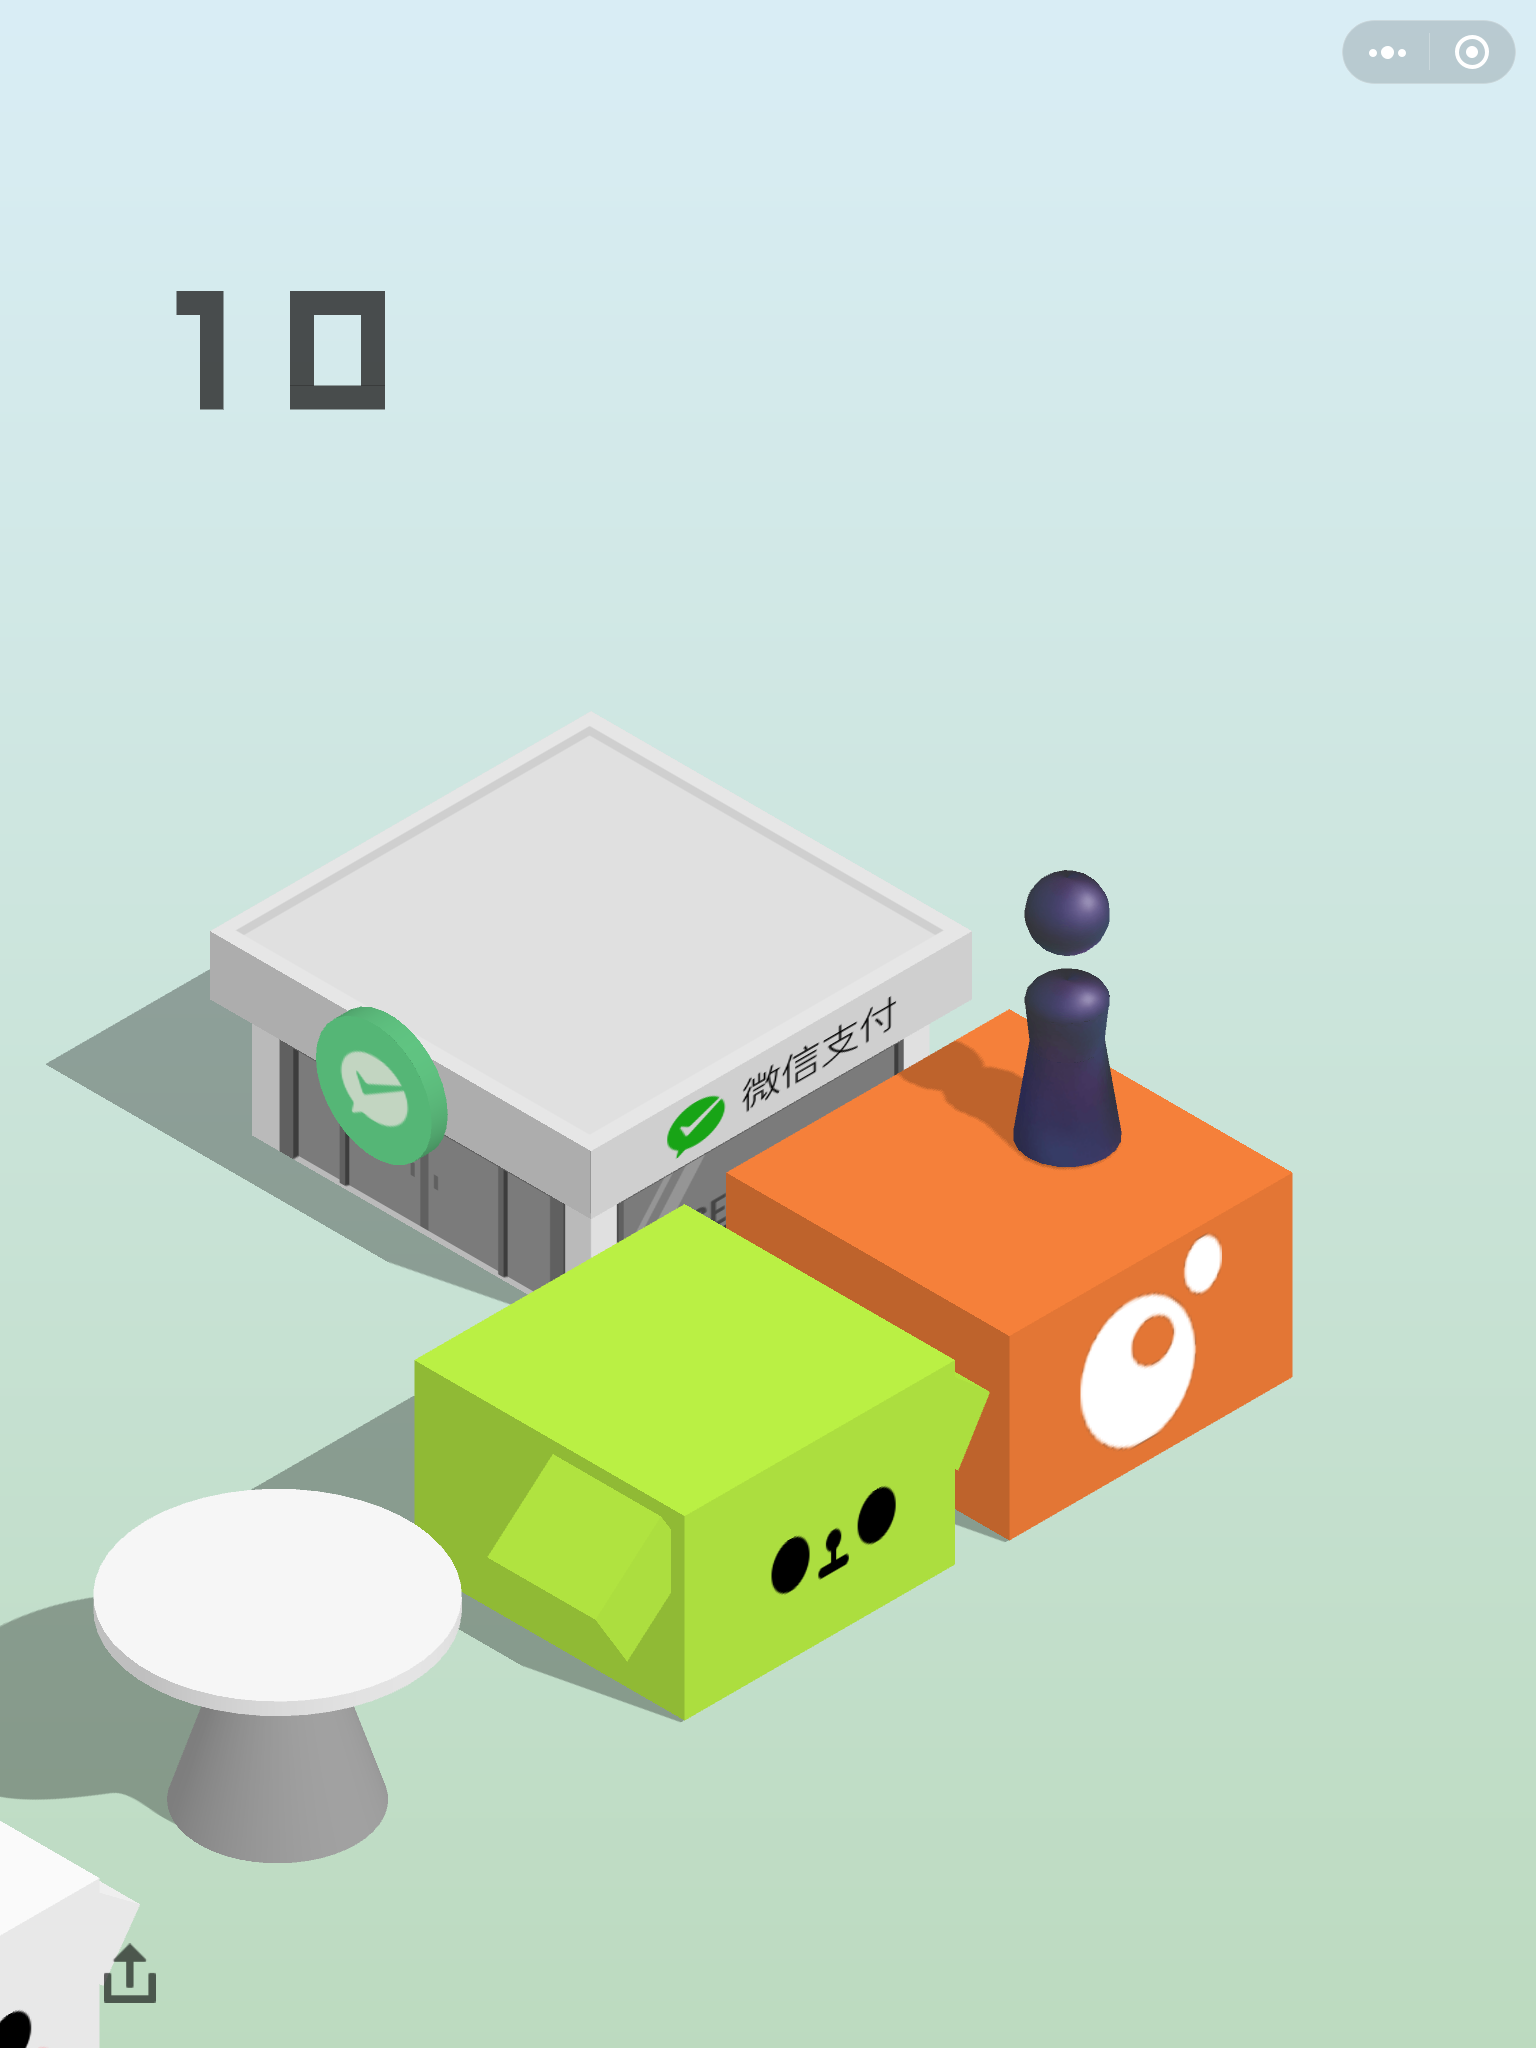c: (87, 1484, 470, 1867)
f: (203, 703, 978, 1306), (720, 1001, 1300, 1548), (403, 1195, 992, 1729)
r: (1007, 863, 1126, 1166)
